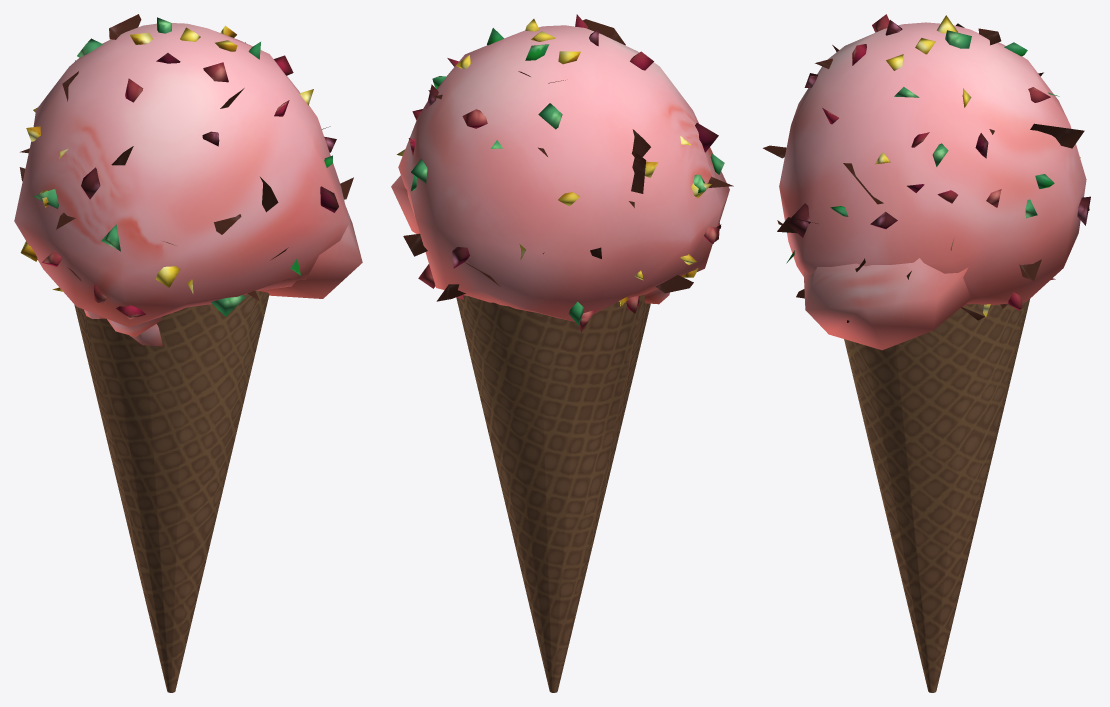
File: icecreamStrawberrywithtop.fbx
3 renders of one model, left to right at view 1: azimuth 30°, elevation 25°; view 2: azimuth 150°, elevation 25°; view 3: azimuth 270°, elevation 25°, orthographic.
Parts seen in each view (by area): view 1: icecreamStrawberrywithtop; view 2: icecreamStrawberrywithtop; view 3: icecreamStrawberrywithtop.
Boxes of the visible parts, left/top/right/bottom form: icecreamStrawberrywithtop: left=14, top=14, right=362, bottom=692; icecreamStrawberrywithtop: left=391, top=14, right=733, bottom=692; icecreamStrawberrywithtop: left=763, top=14, right=1090, bottom=692.
Bounding box in the file's own units: 24.97 × 50.71 × 23.22.
